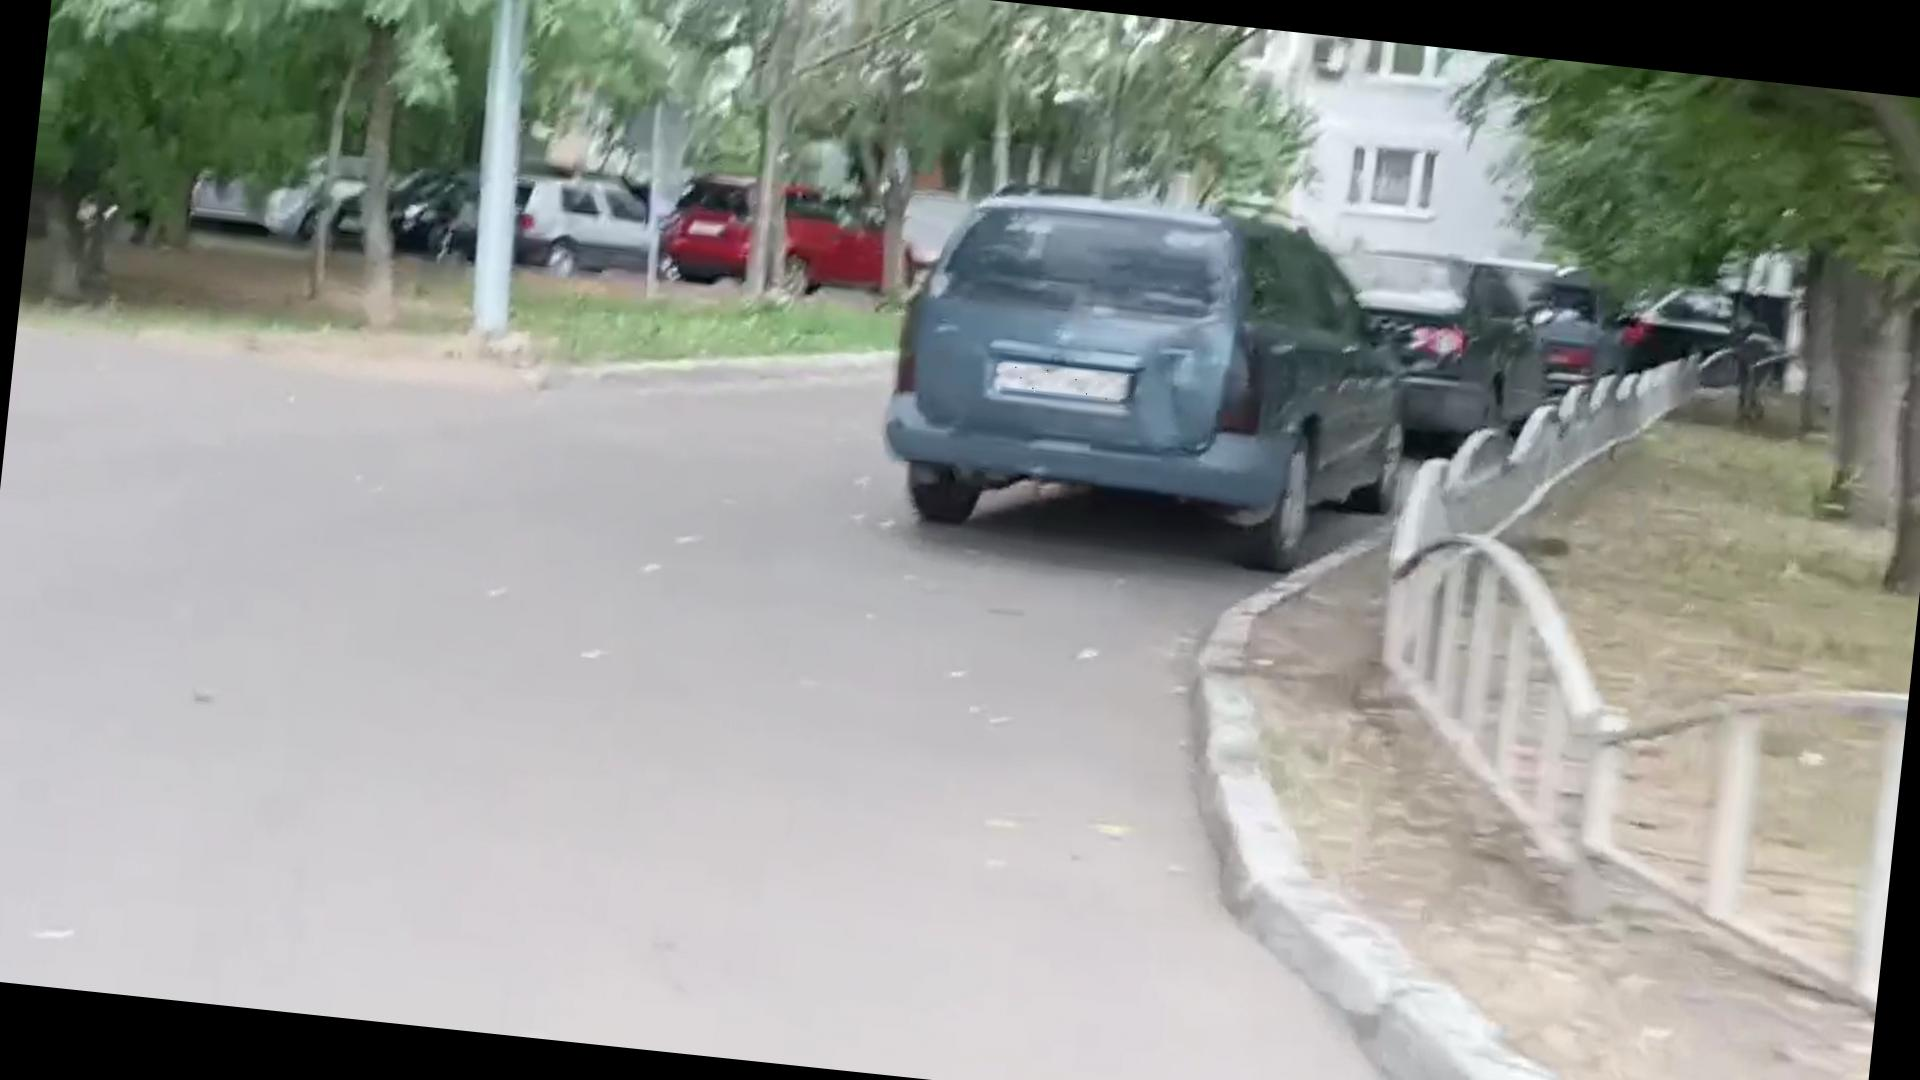plate: (994, 360, 1141, 405)
